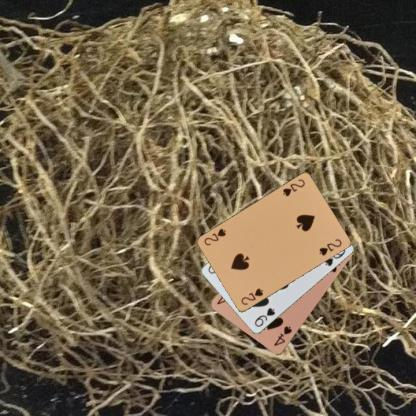2s: (280, 176, 306, 198), (238, 286, 264, 307)
4s: (271, 323, 293, 348)
9s: (252, 306, 276, 328)
